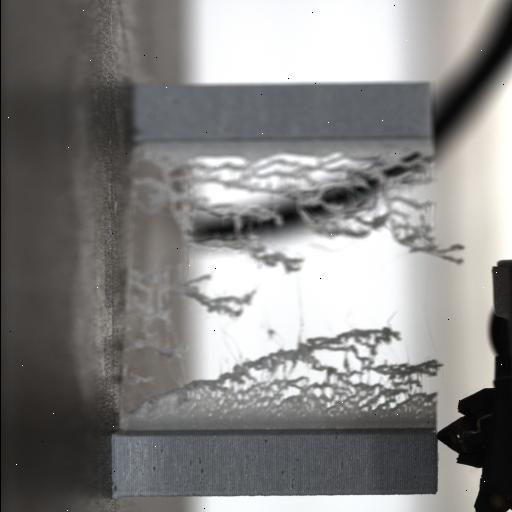stringing: (163, 149, 463, 273), (124, 318, 443, 424)
